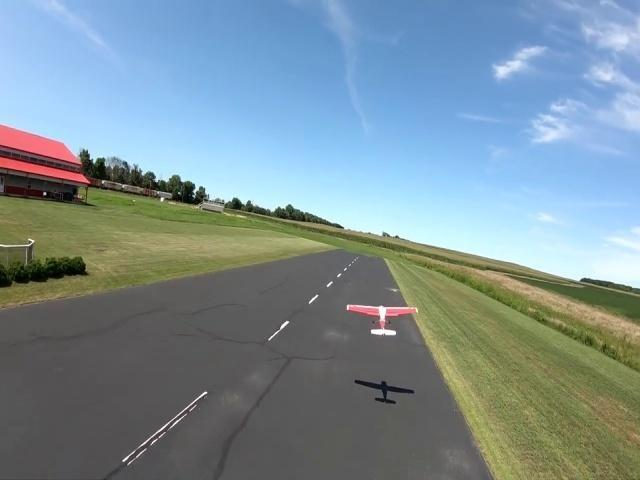Airplane: (345, 302, 418, 335)
